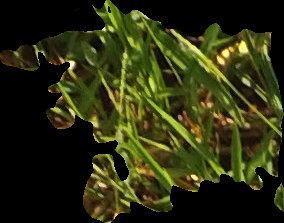grass: (1, 1, 283, 221)
